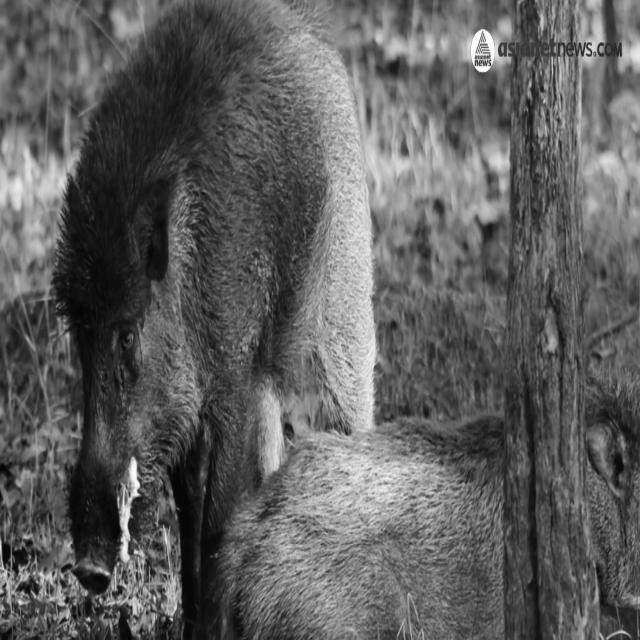WILD BOAR: (45, 28, 387, 567), (221, 407, 640, 640)
